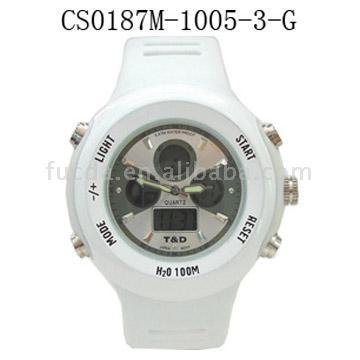watch: (50, 61, 313, 309)
